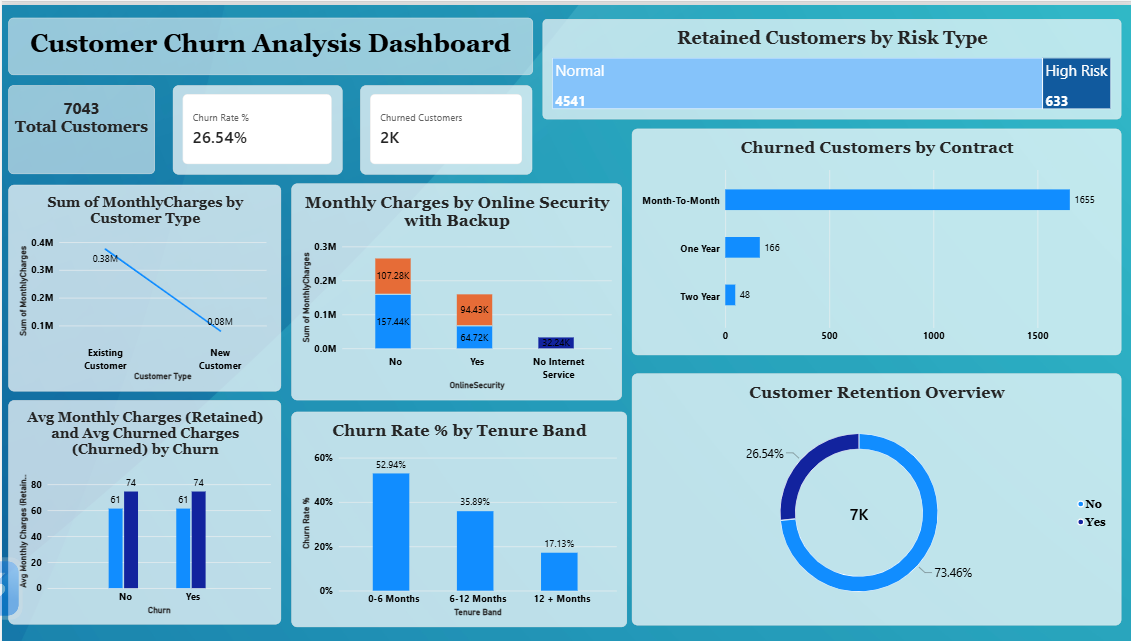

What the dashboard file says about the page in this screenshot:
{"tool":"powerbi","page":{"name":"Page 1","canvas":[1920,1080],"ordinal":0},"visuals":[{"type":"textbox","box":[10,22.5,890,97.5],"z":0},{"type":"treemap","fields":{"Values":["Calculated Measure.Retained Customers"],"Group":["telco_churn_unclean.Risk Type"]},"box":[918,23.4,981.8,170],"z":1000},{"type":"textbox","box":[10.6,136,248.6,150.9],"z":2000},{"type":"cardVisual","fields":{"Data":["Calculated Measure.Churn Rate %"]},"box":[289.9,136.3,287.7,151.4],"z":3000},{"type":"cardVisual","fields":{"Data":["Calculated Measure.Churned Customers"]},"box":[607.9,136.3,292,151.4],"z":4000},{"type":"donutChart","title":"Customer Retention Overview","fields":{"Y":["Calculated Measure.Total Customers"],"Category":["telco_churn_unclean.Churn"]},"box":[1068.9,624.8,830.9,427.1],"z":5000},{"type":"barChart","fields":{"Y":["Calculated Measure.Churned Customers"],"Category":["telco_churn_unclean.Contract"]},"box":[1068.9,210.4,830.9,384.6],"z":6000},{"type":"columnChart","title":"Monthly Charges by Online Security with Backup","fields":{"Category":["telco_churn_unclean.OnlineSecurity"],"Y":["Sum(telco_churn_unclean.MonthlyCharges)"],"Series":["telco_churn_unclean.OnlineBackup"]},"box":[490.9,303.9,561,367.6],"z":7000},{"type":"columnChart","fields":{"Y":["Calculated Measure.Churn Rate %"],"Category":["telco_churn_unclean.Tenure Band"]},"box":[490.9,690.6,569.5,365.5],"z":8000},{"type":"clusteredColumnChart","fields":{"Y":["Calculated Measure.Avg Monthly Charges (Retained)","Calculated Measure.Avg Churned Charges (Churned)"],"Category":["telco_churn_unclean.Churn"]},"box":[10.8,670.6,462.9,380.7],"z":8001},{"type":"lineChart","fields":{"Category":["telco_churn_unclean.Customer Type"],"Y":["Sum(telco_churn_unclean.MonthlyCharges)"]},"box":[10.8,305,462.9,350.5],"z":8002}]}

Visuals, with their boxes in screenshot pixels (x1, y1, x2, y2), scaled from the page's 1920x1080 canvas onto the 1131x641 screenshot:
textbox: left=6, top=13, right=530, bottom=71
treemap - Calculated Measure.Retained Customers x telco_churn_unclean.Risk Type: left=541, top=14, right=1119, bottom=115
textbox: left=6, top=81, right=153, bottom=170
cardVisual - Calculated Measure.Churn Rate %: left=171, top=81, right=340, bottom=171
cardVisual - Calculated Measure.Churned Customers: left=358, top=81, right=530, bottom=171
"Customer Retention Overview" donutChart: left=630, top=371, right=1119, bottom=624
barChart - Calculated Measure.Churned Customers x telco_churn_unclean.Contract: left=630, top=125, right=1119, bottom=353
"Monthly Charges by Online Security with Backup" columnChart: left=289, top=180, right=620, bottom=399
columnChart - Calculated Measure.Churn Rate % x telco_churn_unclean.Tenure Band: left=289, top=410, right=625, bottom=627
clusteredColumnChart - Calculated Measure.Avg Monthly Charges (Retained) x Calculated Measure.Avg Churned Charges (Churned): left=6, top=398, right=279, bottom=624
lineChart - telco_churn_unclean.Customer Type x Sum(telco_churn_unclean.MonthlyCharges): left=6, top=181, right=279, bottom=389
